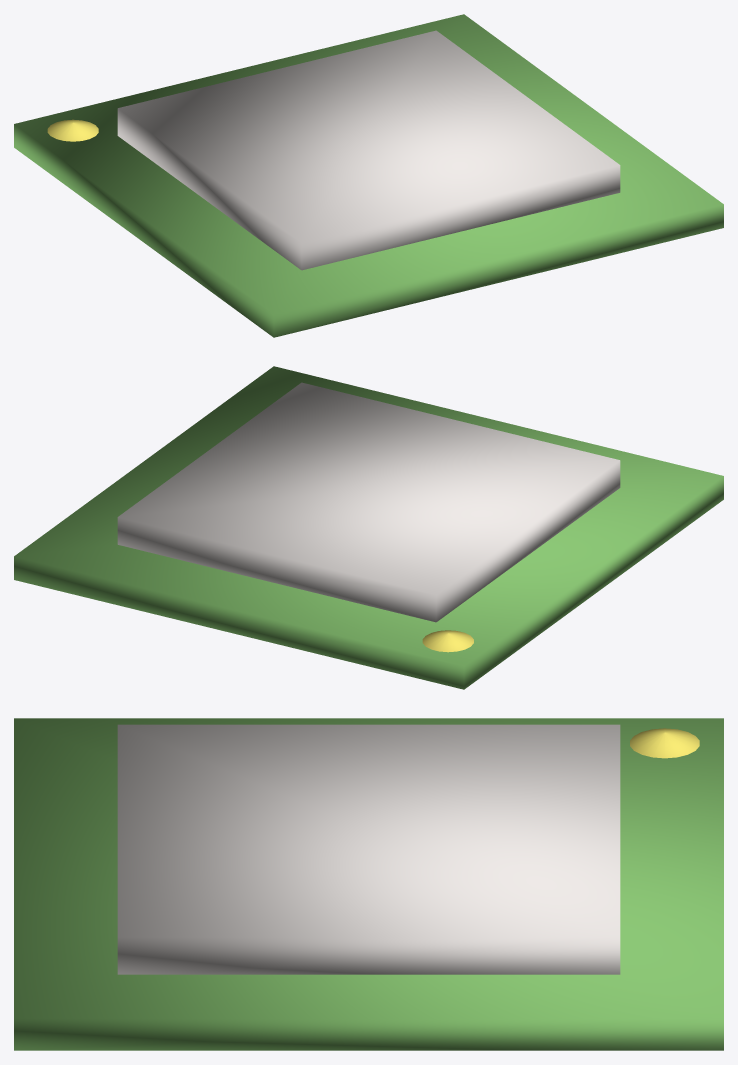
The model's file is cpu.glb.
3 views of the same model, one above another, from view 1: azimuth 30°, elevation 25°; view 2: azimuth 150°, elevation 25°; view 3: azimuth 270°, elevation 25° (orthographic). The views are drawn at different scales.
Visible parts, largest first — view 1: ihs, sub, mark; view 2: ihs, sub, mark; view 3: ihs, sub, mark.
Boxes of the visible parts, x1=… form: ihs: x1=117, y1=30, x2=620, y2=270; sub: x1=14, y1=14, x2=723, y2=337; mark: x1=47, y1=119, x2=98, y2=141; ihs: x1=117, y1=382, x2=620, y2=622; sub: x1=14, y1=366, x2=723, y2=689; mark: x1=422, y1=630, x2=473, y2=652; ihs: x1=117, y1=724, x2=620, y2=974; sub: x1=14, y1=718, x2=723, y2=1050; mark: x1=630, y1=728, x2=699, y2=758.
Size of the model in its own units: 1.2 by 0.13 by 1.2.
